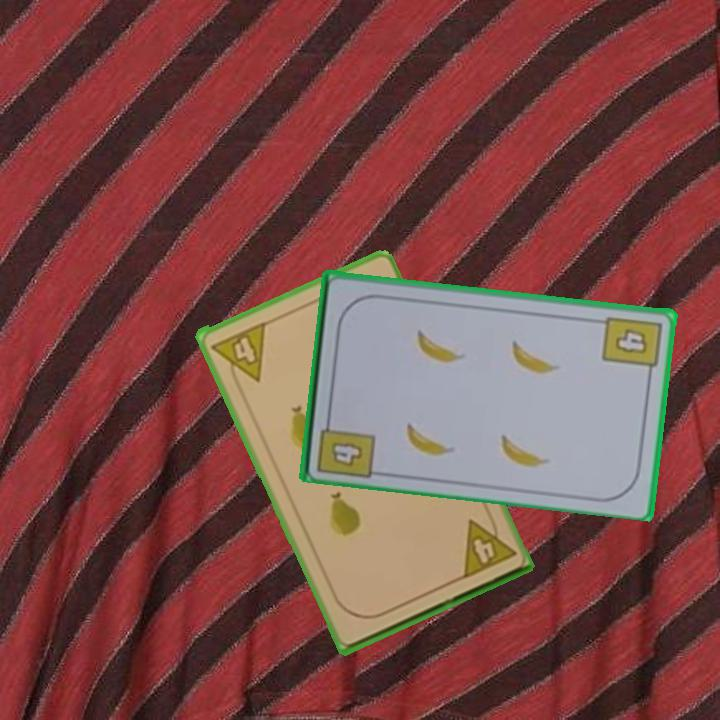4b: (598, 312, 664, 380), (313, 410, 377, 480)
4p: (457, 509, 519, 582), (208, 318, 269, 392)
